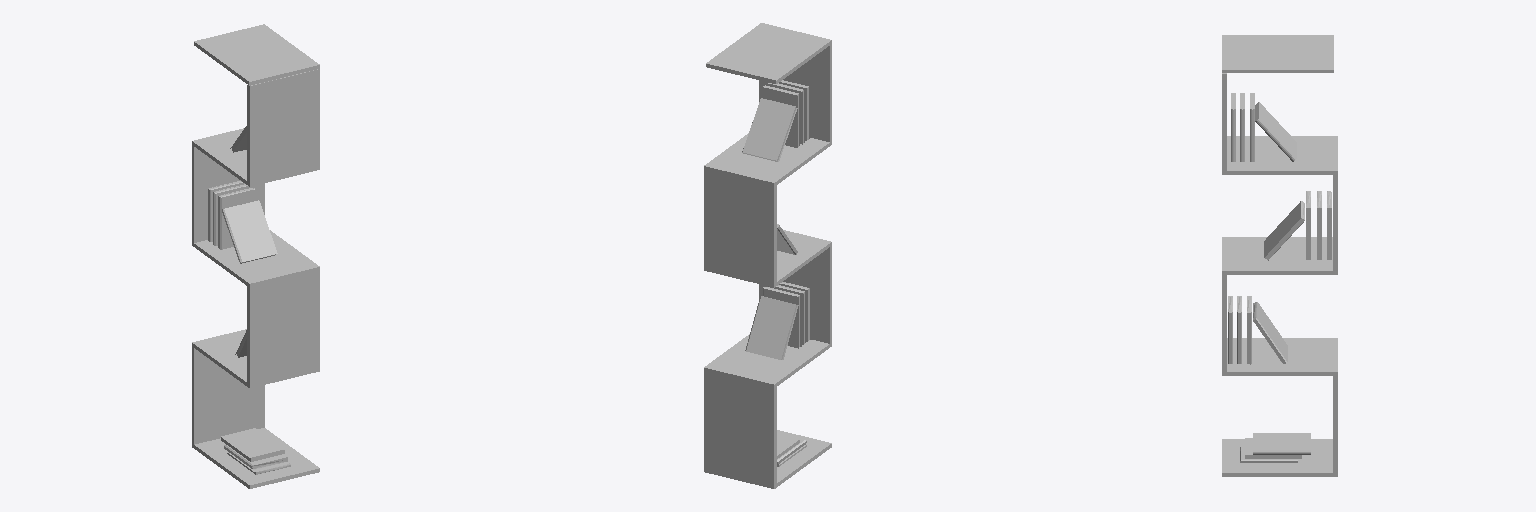
Rendered from bookshelf.obj.
The picture shows the model from 3 angles: view 1: azimuth 30°, elevation 25°; view 2: azimuth 150°, elevation 25°; view 3: azimuth 270°, elevation 25°; orthographic projection.
Visible parts, largest first — view 1: Cube.001, Cube.005, Cube.007, Cube.025_Cube.034, Cube.004, Cube.008, Cube.018_Cube.023, Cube.003, Cube.006, Cube.002, Cube.024_Cube.029, Cube.017_Cube.022; view 2: Cube.003, Cube.007, Cube.025_Cube.034, Cube.006, Cube.002, Cube.001, Cube.005, Cube.021_Cube.026, Cube.012_Cube.014, Cube.004, Cube.008, Cube.011_Cube.013 (+1 smaller); view 3: Cube.025_Cube.034, Cube.002, Cube.004, Cube.006, Cube.008, Cube.024_Cube.029, Cube.012_Cube.014, Cube.018_Cube.023, Cube.021_Cube.026.
Boxes of the visible parts, x1=… form: Cube.001: x1=247, y1=69, x2=319, y2=186; Cube.005: x1=247, y1=271, x2=319, y2=387; Cube.007: x1=192, y1=347, x2=264, y2=447; Cube.025_Cube.034: x1=194, y1=24, x2=319, y2=85; Cube.004: x1=194, y1=230, x2=319, y2=287; Cube.008: x1=194, y1=428, x2=319, y2=488; Cube.018_Cube.023: x1=222, y1=200, x2=277, y2=263; Cube.003: x1=192, y1=145, x2=264, y2=246; Cube.006: x1=192, y1=329, x2=246, y2=385; Cube.002: x1=192, y1=128, x2=246, y2=184; Cube.024_Cube.029: x1=221, y1=428, x2=284, y2=461; Cube.017_Cube.022: x1=218, y1=187, x2=256, y2=249; Cube.003: x1=704, y1=170, x2=776, y2=287; Cube.007: x1=704, y1=372, x2=776, y2=488; Cube.025_Cube.034: x1=706, y1=23, x2=831, y2=83; Cube.006: x1=704, y1=334, x2=829, y2=387; Cube.002: x1=704, y1=133, x2=829, y2=186; Cube.001: x1=759, y1=44, x2=831, y2=145; Cube.005: x1=759, y1=246, x2=831, y2=346; Cube.021_Cube.026: x1=745, y1=296, x2=798, y2=359; Cube.012_Cube.014: x1=742, y1=98, x2=797, y2=161; Cube.004: x1=777, y1=230, x2=831, y2=285; Cube.008: x1=777, y1=430, x2=831, y2=486; Cube.011_Cube.013: x1=763, y1=85, x2=799, y2=147; Cube.025_Cube.034: x1=1222, y1=35, x2=1333, y2=72; Cube.002: x1=1227, y1=136, x2=1337, y2=174; Cube.004: x1=1222, y1=237, x2=1332, y2=274; Cube.006: x1=1227, y1=338, x2=1337, y2=375; Cube.008: x1=1222, y1=439, x2=1332, y2=476; Cube.024_Cube.029: x1=1253, y1=433, x2=1310, y2=454; Cube.012_Cube.014: x1=1255, y1=102, x2=1296, y2=161; Cube.018_Cube.023: x1=1264, y1=201, x2=1304, y2=260; Cube.021_Cube.026: x1=1253, y1=302, x2=1287, y2=363.
Bounding box in the file's own units: 0.4333 × 2.39 × 0.6138.